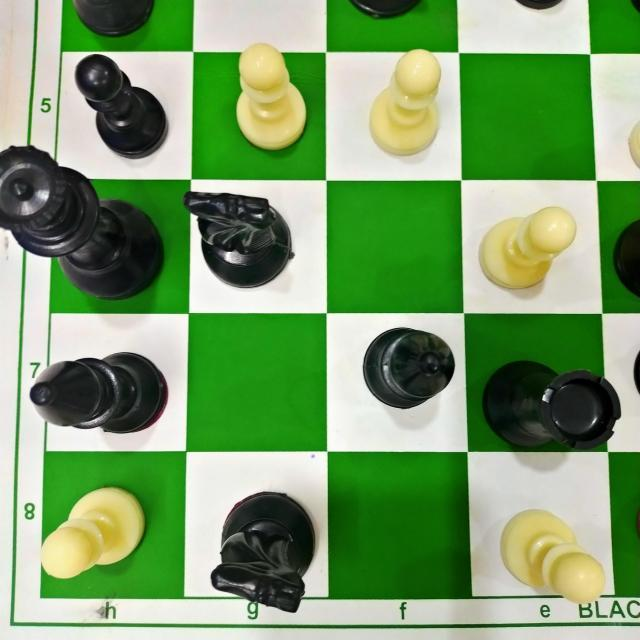black-bishop: (29, 351, 170, 434), (360, 326, 457, 410)
black-knight: (209, 489, 317, 612), (184, 190, 296, 286)
black-pawn: (74, 56, 169, 159)
black-queen: (0, 146, 163, 300)
black-rook: (482, 359, 622, 450)
white-pawn: (498, 508, 606, 604), (40, 485, 146, 580), (479, 207, 577, 290), (234, 44, 308, 150), (368, 50, 442, 154)
